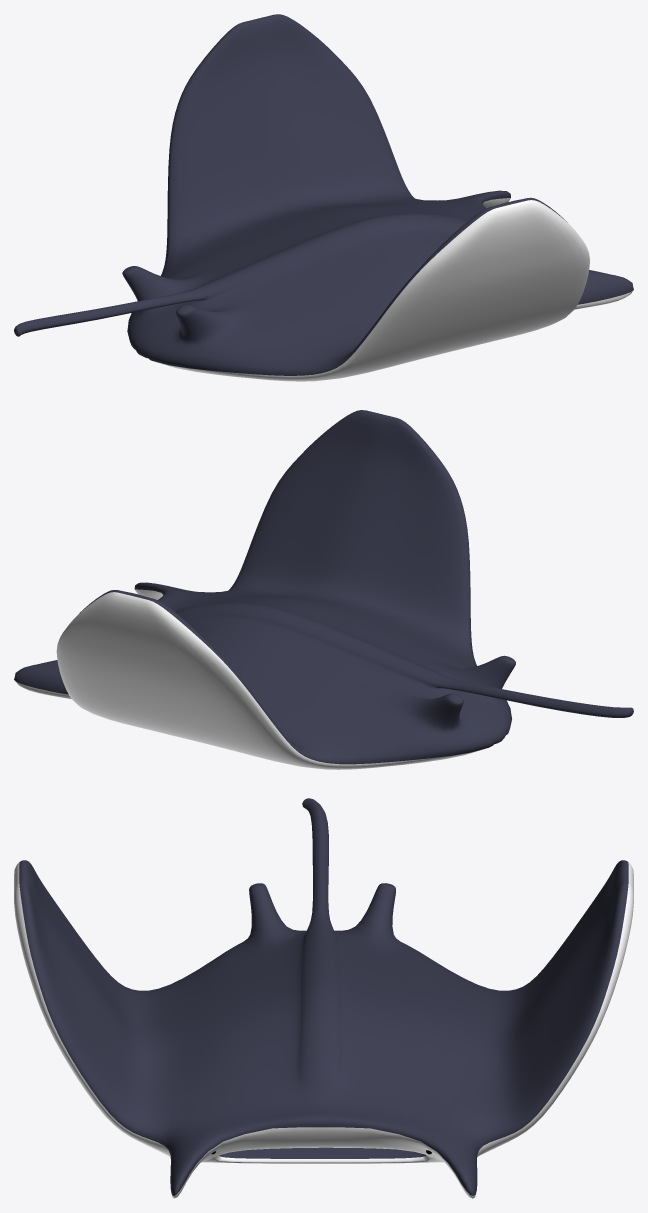
Rendered from 아싸 가오리.fbx.
The picture shows the model from 3 angles, top to bottom: view 1: azimuth 30°, elevation 25°; view 2: azimuth 150°, elevation 25°; view 3: azimuth 270°, elevation 25°; orthographic projection. The views are drawn at different scales.
Parts seen in each view (by area): view 1: pCube3; view 2: pCube3; view 3: pCube3.
Boxes of the visible parts, x1,y1,x2,y2 form: pCube3: [14, 14, 633, 381]; pCube3: [14, 410, 633, 769]; pCube3: [14, 798, 633, 1198].
Bounding box in the file's own units: 154 × 53.95 × 123.
